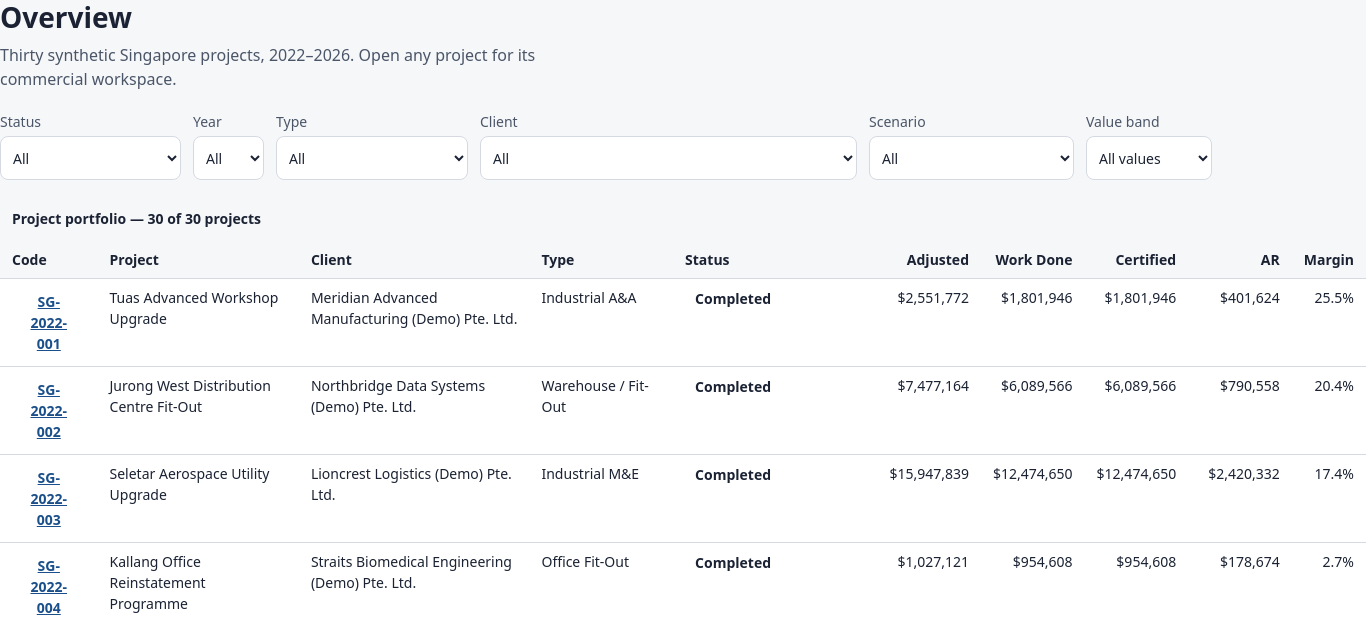
PortfolioView (TASK-004) › shows an empty-state note when nothing matches
Select "Completed" in the dropdown labelled "Status" at (90, 158), box [0,136,181,180]
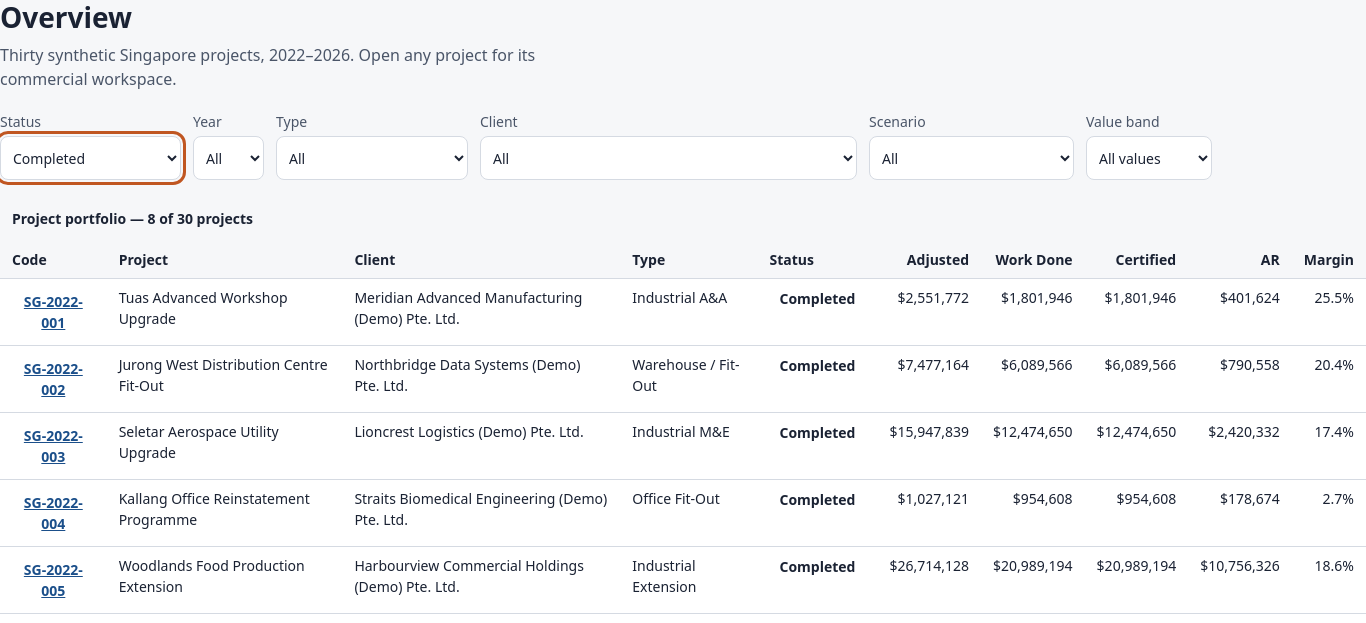
Select "2026" in the dropdown labelled "Year" at (228, 158), box [193,136,264,180]
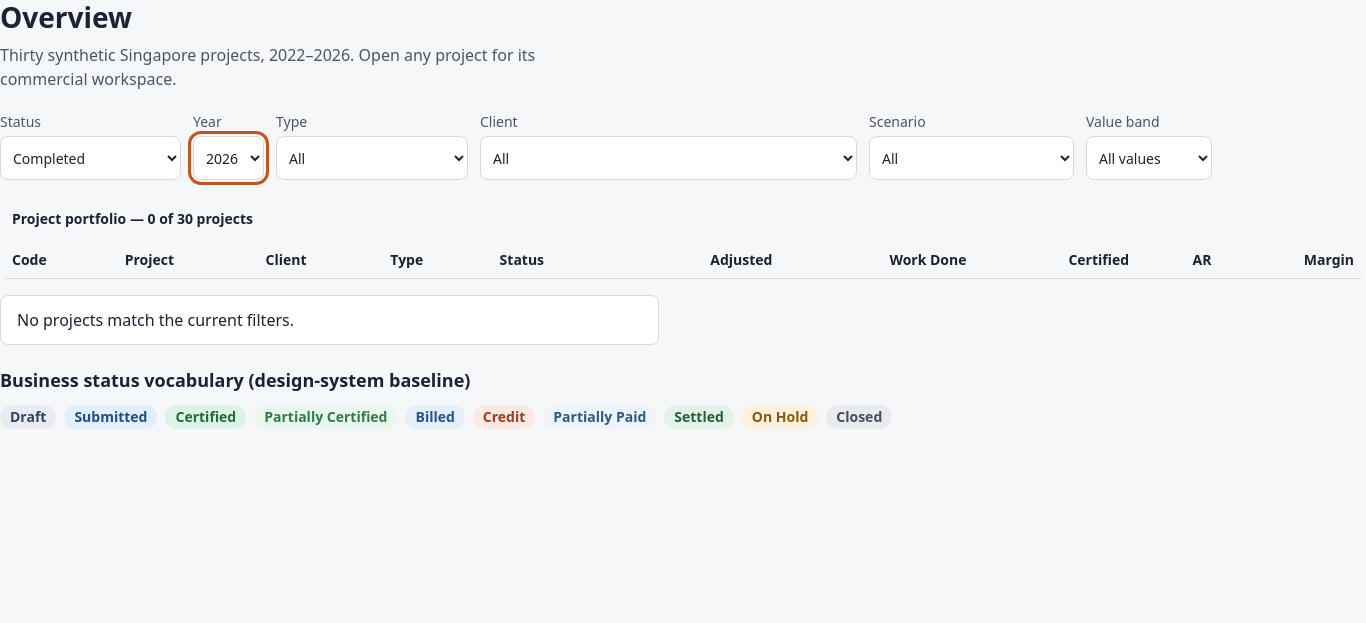
Check: the message shows "No projects match", box [17,309,294,331]
